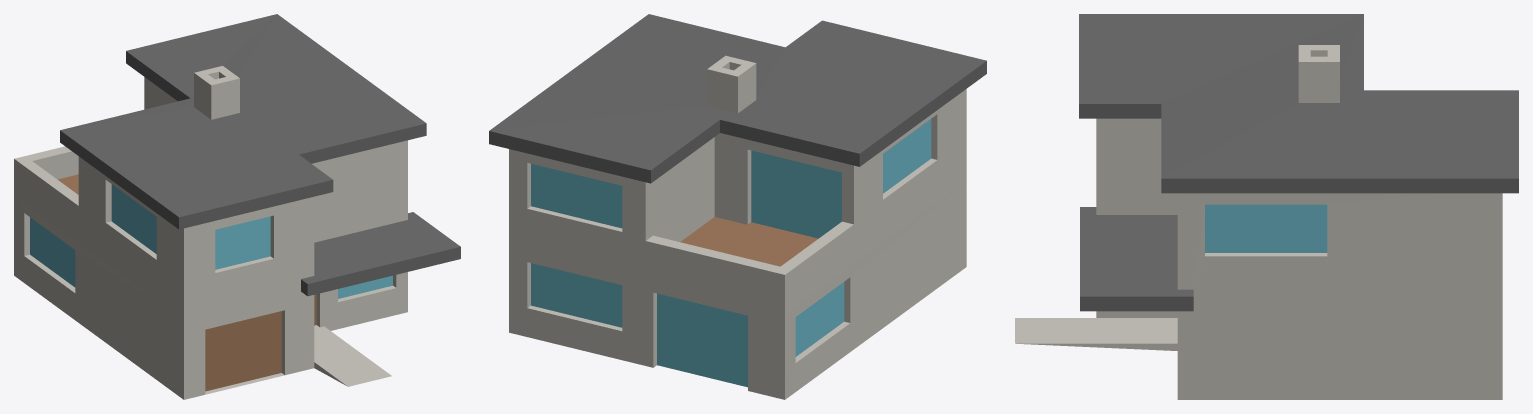
File: house-modern.glb
3 views of the same model, side by side, from view 1: azimuth 30°, elevation 25°; view 2: azimuth 150°, elevation 25°; view 3: azimuth 270°, elevation 25° (orthographic). The views are drawn at different scales.
Parts seen in each view (by area): view 1: house-modern_Cube.037; view 2: house-modern_Cube.037; view 3: house-modern_Cube.037.
Part boxes in pixels (box(x1,y1,x2,y2)): house-modern_Cube.037: box(14, 14, 460, 399); house-modern_Cube.037: box(489, 14, 986, 399); house-modern_Cube.037: box(1015, 14, 1518, 399).
Bounding box in the file's own units: 9.59 × 7.32 × 12.4.
Materials: 1 (1 with a texture image).
